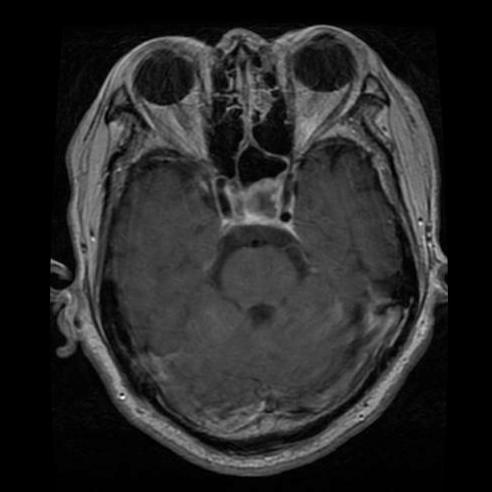Tumour-Pituitary: (210, 165, 303, 237)
